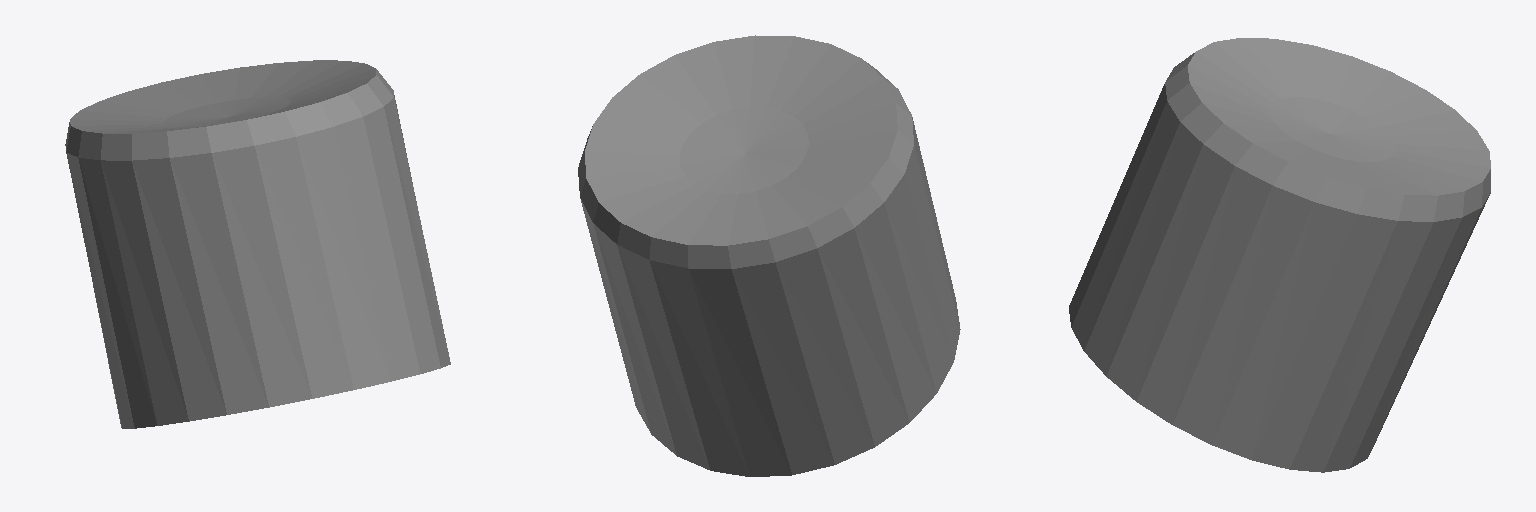
File: button_system.obj
3 renders of one model, left to right at view 1: azimuth 30°, elevation 25°; view 2: azimuth 150°, elevation 25°; view 3: azimuth 270°, elevation 25°, orthographic.
Visible parts, largest first — view 1: r_button_system; view 2: r_button_system; view 3: r_button_system.
Part boxes in pixels (x1,y1,x2,y2): r_button_system: (65, 60, 450, 428); r_button_system: (578, 35, 960, 476); r_button_system: (1069, 38, 1490, 472).
Bounding box in the file's own units: 0.0061 × 0.0072 × 0.0076.